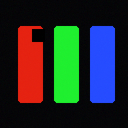1 square: (32, 29, 44, 41)
